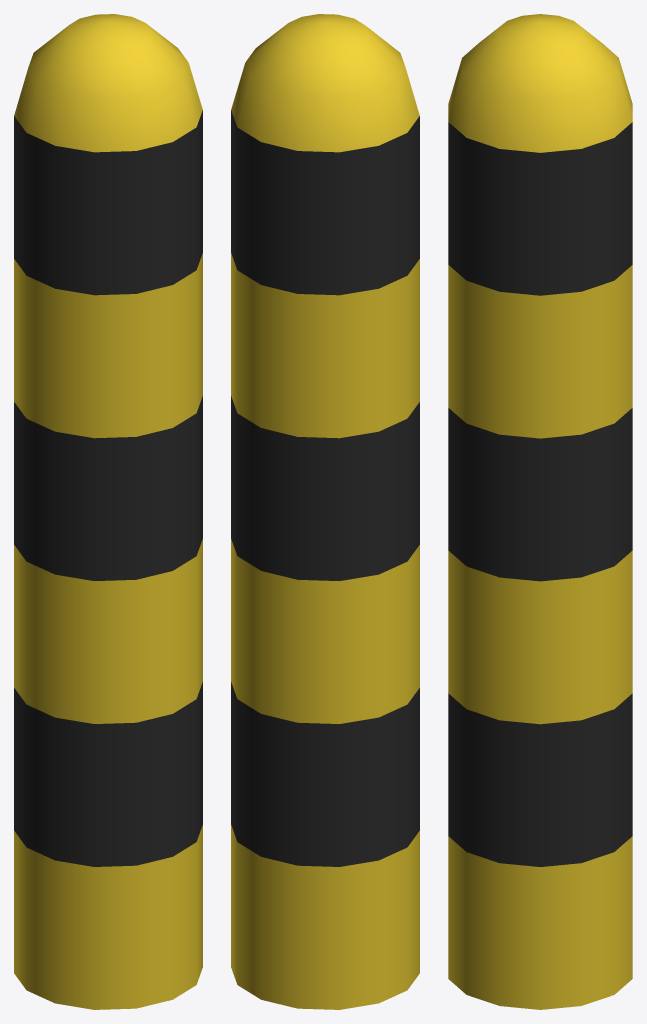
Rendered from bollard.glb.
The picture shows the model from 3 angles, left to right: view 1: azimuth 30°, elevation 25°; view 2: azimuth 150°, elevation 25°; view 3: azimuth 270°, elevation 25°; orthographic projection.
Visible parts, largest first — view 1: bollard_black_paint; view 2: bollard_black_paint; view 3: bollard_black_paint.
Boxes of the visible parts, <box> form: bollard_black_paint: <box>14,14,202,1009</box>; bollard_black_paint: <box>231,14,419,1009</box>; bollard_black_paint: <box>448,14,632,1009</box>.
Bounding box in the file's own units: 0.18 × 0.995 × 0.1755.
Materials: 1 (1 with a texture image).
